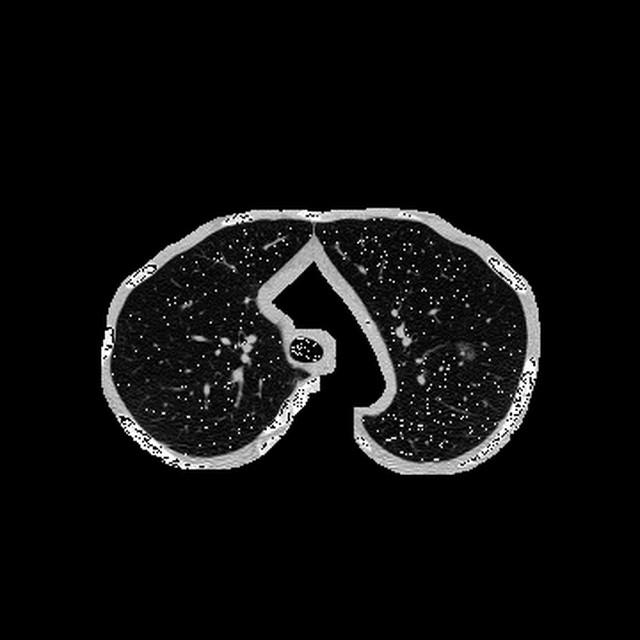PN: (457, 341, 475, 359)
